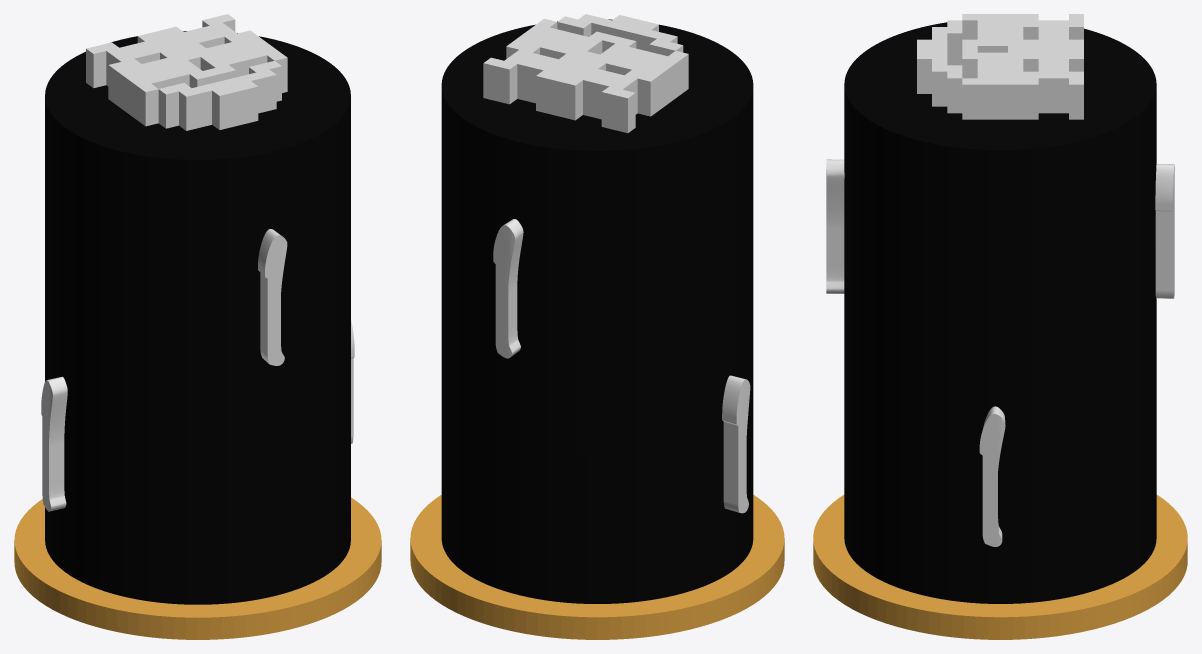
Rendered from si-keilat-1-5-uniryyn-keila1.fbx.
3 renders of one model, left to right at view 1: azimuth 30°, elevation 25°; view 2: azimuth 150°, elevation 25°; view 3: azimuth 270°, elevation 25°, orthographic. The views are drawn at different scales.
Parts seen in each view (by area): view 1: Cylinder.016, Cylinder.015, Plane.002, Text.034, Text.033; view 2: Cylinder.016, Cylinder.015, Plane.002, Text.034, Text.018; view 3: Cylinder.016, Cylinder.015, Plane.002, Text.018, Text.033, Text.032.
Part boxes in pixels (bbox=[...]): Cylinder.016: bbox=[45, 31, 350, 604]; Cylinder.015: bbox=[14, 497, 381, 639]; Plane.002: bbox=[86, 14, 287, 130]; Text.034: bbox=[41, 376, 67, 511]; Text.033: bbox=[258, 229, 287, 365]; Cylinder.016: bbox=[441, 19, 753, 603]; Cylinder.015: bbox=[410, 495, 784, 639]; Plane.002: bbox=[483, 14, 688, 133]; Text.034: bbox=[722, 375, 750, 513]; Text.018: bbox=[493, 219, 523, 358]; Cylinder.016: bbox=[844, 22, 1156, 603]; Cylinder.015: bbox=[813, 495, 1187, 639]; Plane.002: bbox=[917, 14, 1083, 119]; Text.018: bbox=[1155, 164, 1174, 298]; Text.033: bbox=[826, 159, 844, 293]; Text.032: bbox=[979, 406, 1005, 546].
Size of the model in its own units: 358 by 540 by 358.
